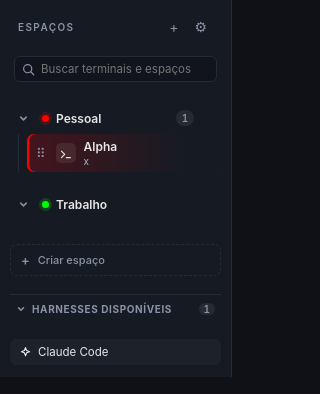
Test: Sidebar: pasta da sessão › renomeando, a linha da pasta some para o input caber
Double-click the text "Alpha" at (100, 146), box [84, 139, 117, 154]
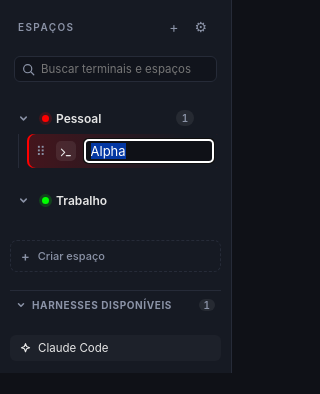
Expected: the text with test id "session-cwd" is gone
